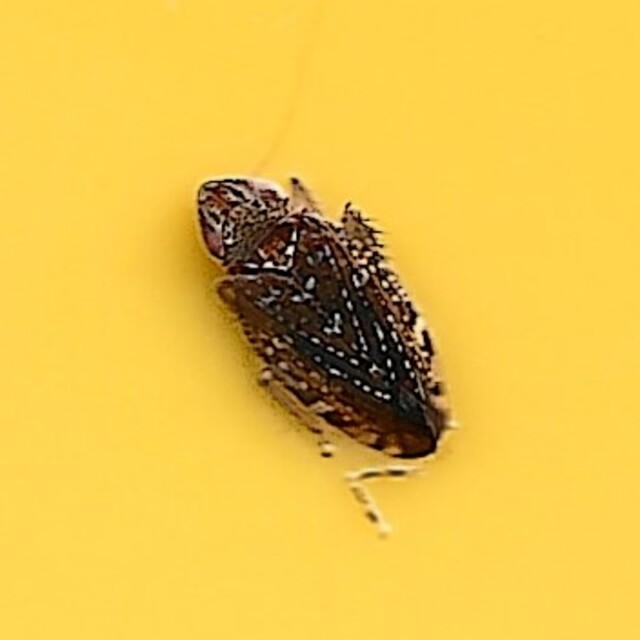Hemiptera: (182, 168, 458, 472)
